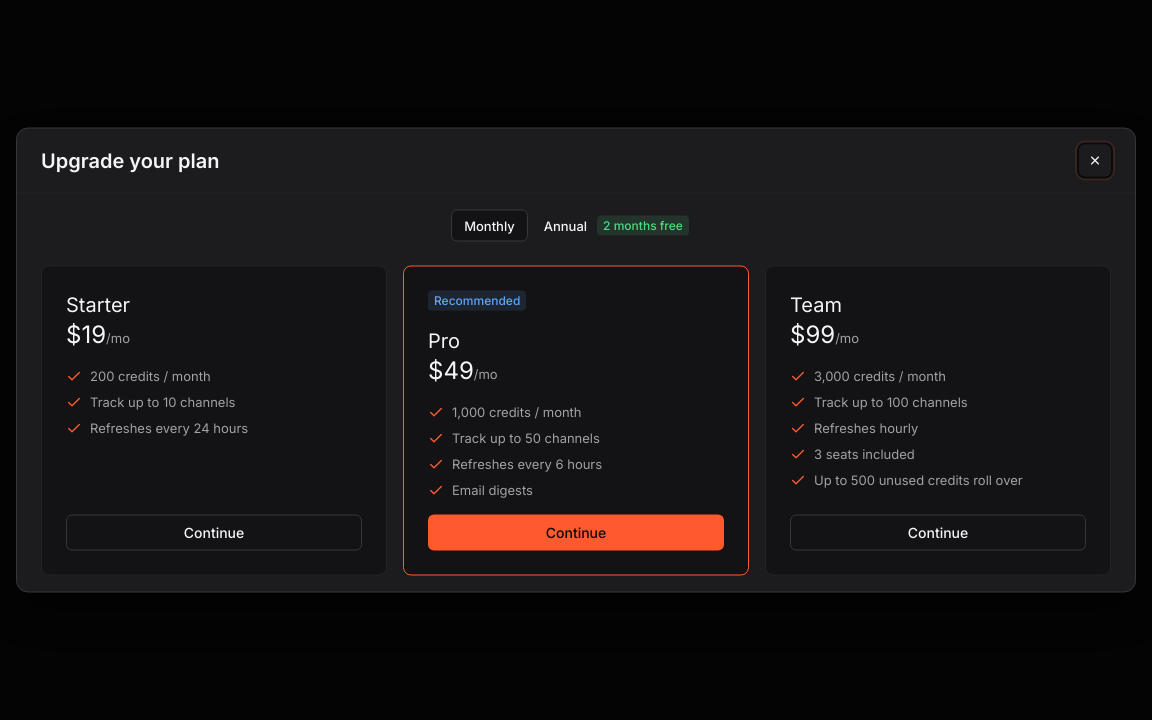
Test case: UpgradeModal › shows an error toast and does not navigate when checkout creation fails
This screenshot has width=1152, height=720.
Click the button "Continue" below "Refreshes every 24 hours": (214, 532) [66, 514, 362, 550]
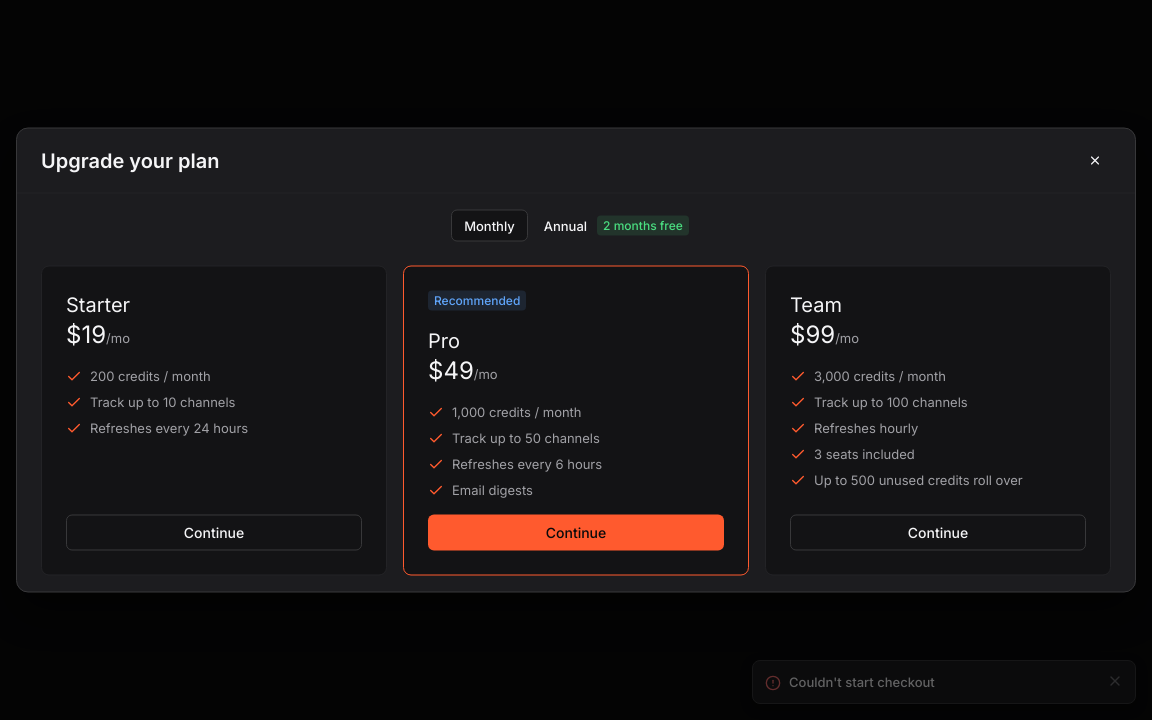
Check: the text "Couldn't start checkout" is shown, box [789, 674, 935, 690]
